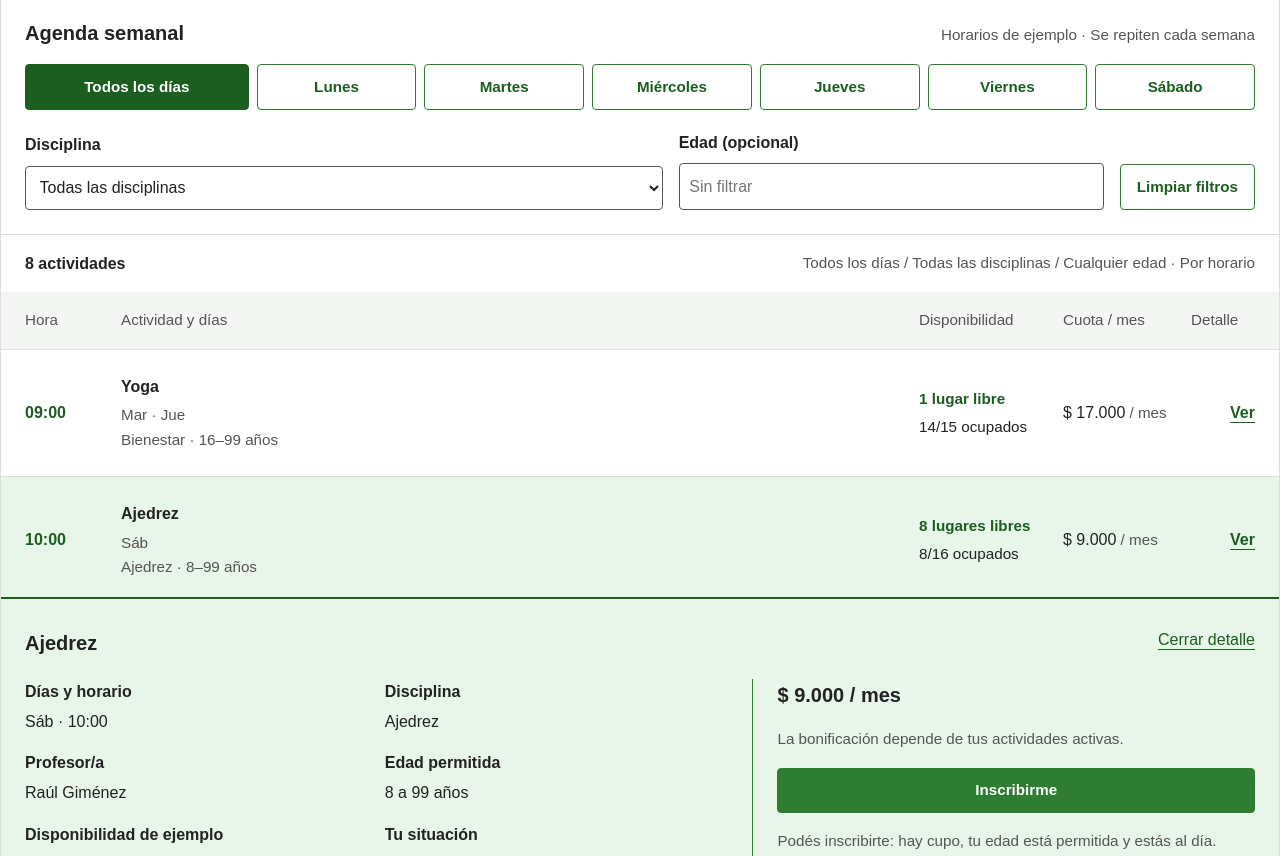
un alta válida usa la acción compartida y no permite duplicarla
Click the button "Inscribirme": point(1016, 790) [778,768,1255,813]
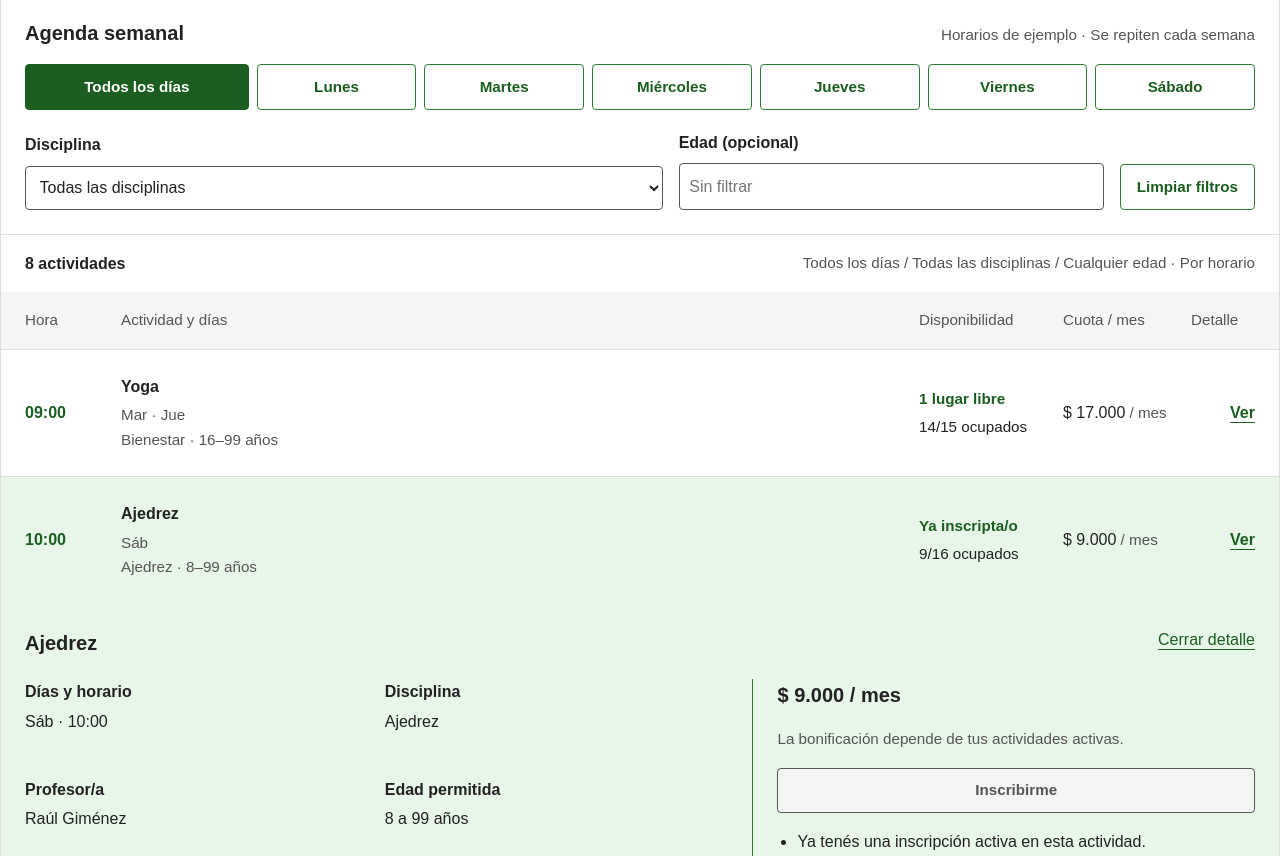
Expected: the button "Inscribirme" is disabled, [778,768,1255,813]
